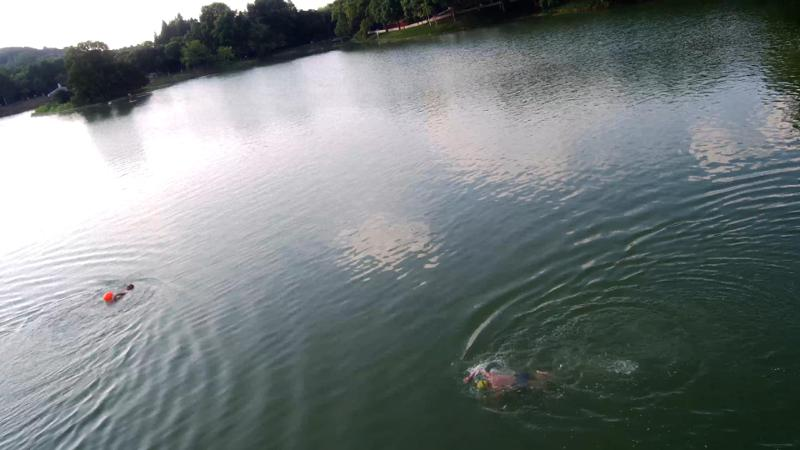swimmers: (459, 363, 552, 398), (111, 281, 135, 305)
